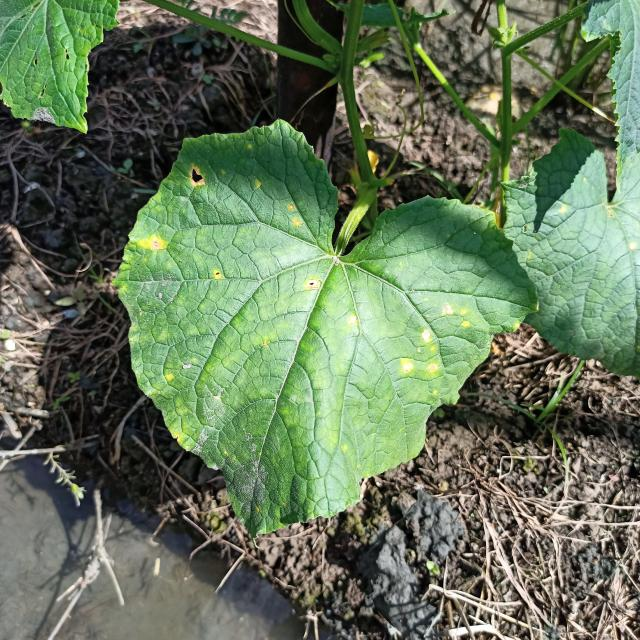disease_cucumber: (400, 301, 470, 373), (133, 232, 166, 252), (288, 200, 302, 230), (188, 166, 205, 189), (302, 277, 322, 292), (348, 314, 360, 324), (210, 270, 221, 280)
